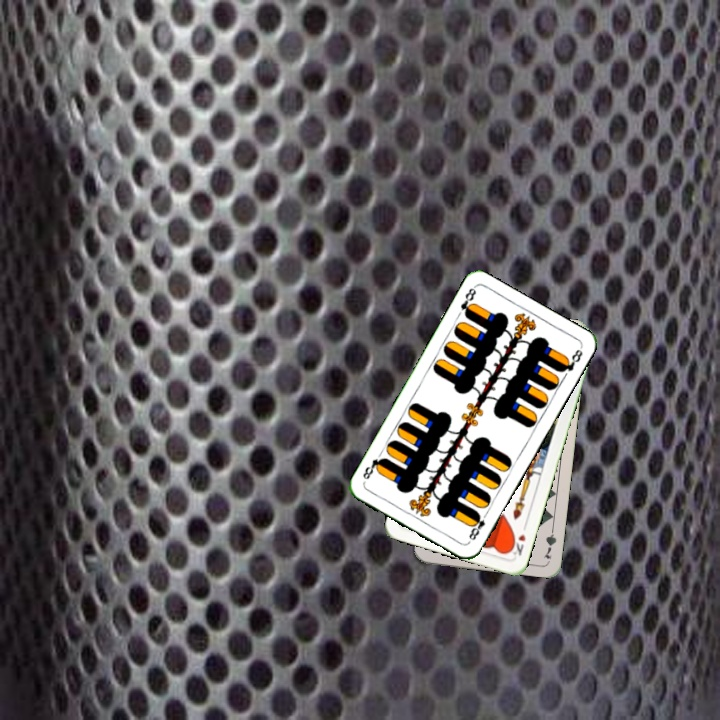E8: (465, 508, 491, 543), (456, 283, 479, 320)
G7: (540, 521, 559, 561)
HK: (506, 520, 530, 558)
